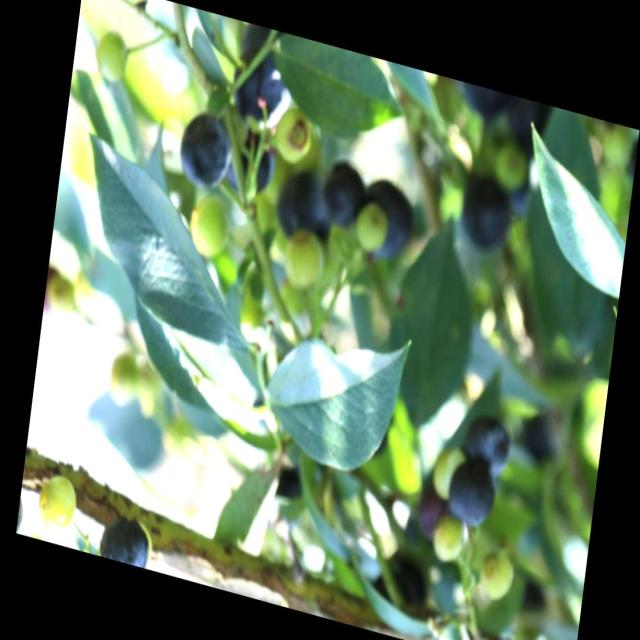blueberry: (228, 49, 292, 138), (354, 176, 412, 272), (175, 104, 233, 191), (454, 168, 511, 256), (280, 165, 334, 244), (446, 455, 498, 531), (320, 156, 368, 233), (226, 126, 275, 201), (463, 411, 517, 478), (97, 509, 153, 568)
blueberry-unripe: (30, 464, 82, 543), (282, 222, 332, 290), (186, 189, 230, 264), (271, 105, 314, 173), (90, 23, 133, 90), (478, 544, 520, 606), (429, 441, 466, 505), (428, 516, 466, 573), (357, 203, 388, 259)
